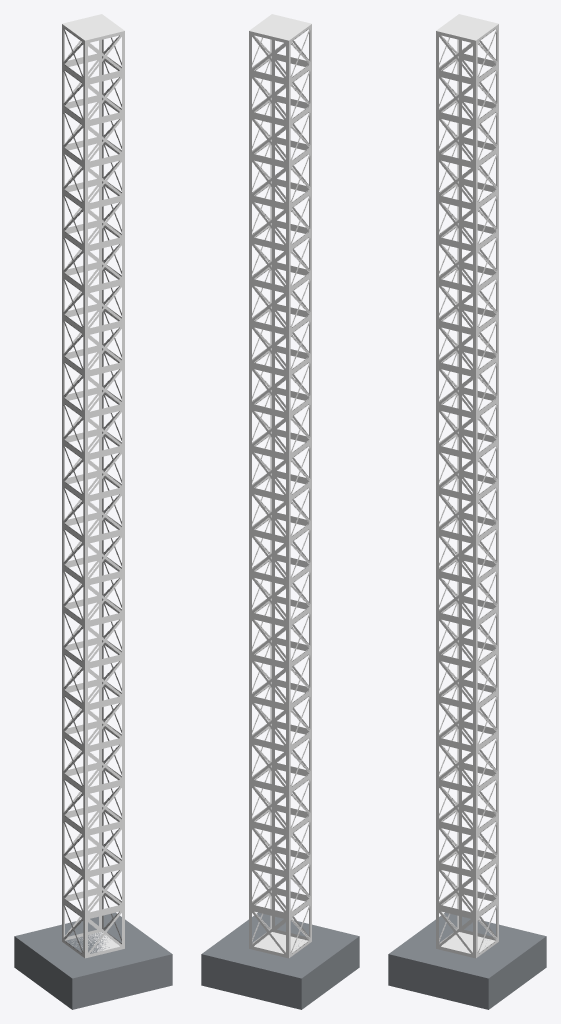
The model's file is tower-crane.obj.
3 renders of one model, left to right at view 1: azimuth 30°, elevation 25°; view 2: azimuth 150°, elevation 25°; view 3: azimuth 330°, elevation 25°, orthographic.
Parts seen in each view (by area): view 1: part2, part1; view 2: part2, part1; view 3: part2, part1.
Part boxes in pixels (left/top/right/bottom): part2: left=62, top=14, right=124, bottom=958; part1: left=14, top=912, right=172, bottom=1009; part2: left=249, top=14, right=311, bottom=958; part1: left=201, top=912, right=359, bottom=1009; part2: left=436, top=14, right=498, bottom=958; part1: left=388, top=912, right=546, bottom=1009.
Bounding box in the file's own units: 4 × 36.22 × 4.
2 materials, 1 textured.
